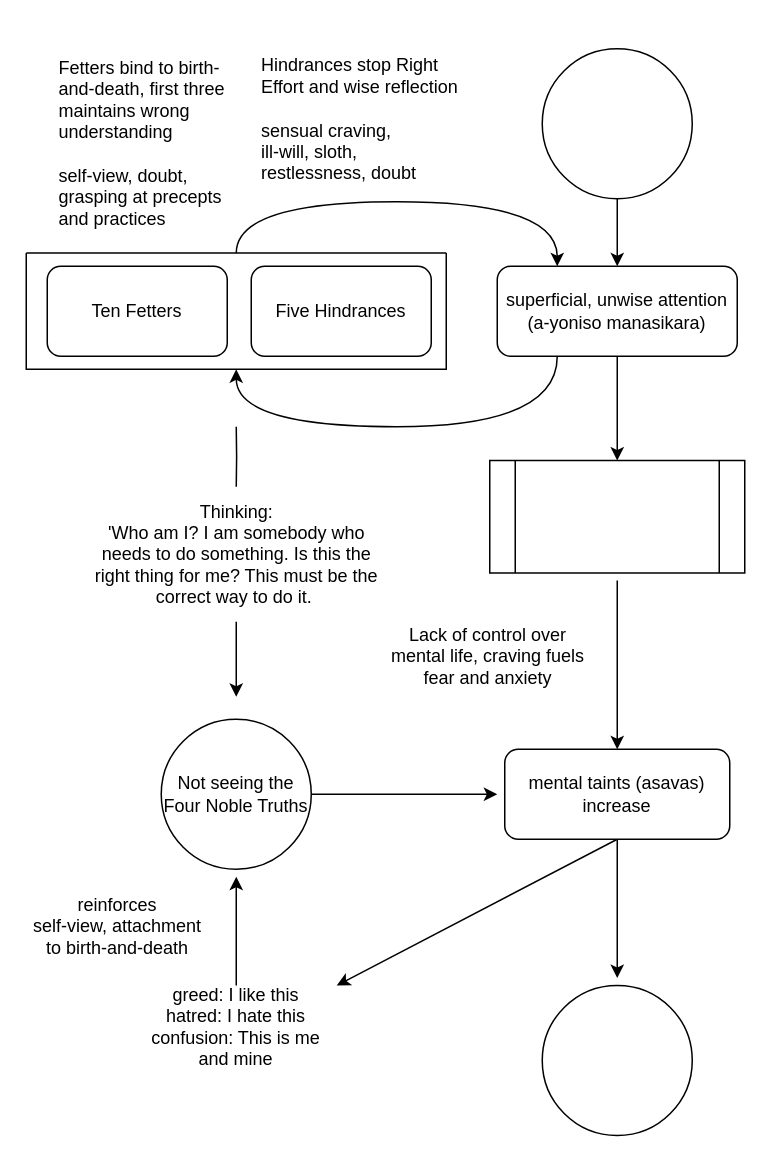
This 771x1163 diagram has some shape labels left out. Each missing label, with the centre of its shape:
Existence in a sense realm: the point at 616,123
Leading to suffering, grief and despair: the point at 616,1060
reactions of greed, hatred and confusion direct life goas and actions: the point at 616,516
